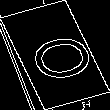O_E: (14, 26, 96, 84)
